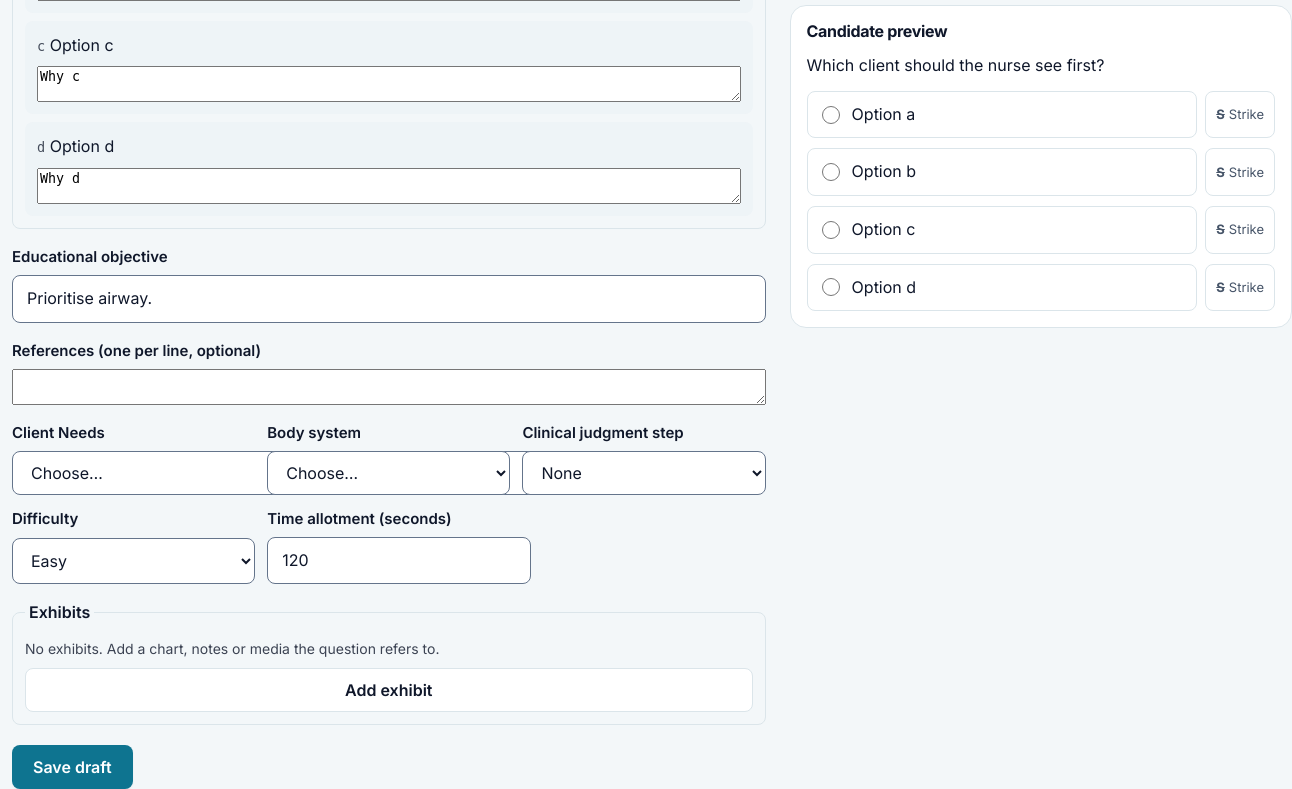
it: DraftForm › puts server problems next to their fields and lists the rest
(page scrolled)
Click the button "Save draft" at (72, 767), box [12, 745, 133, 788]
(page scrolled)
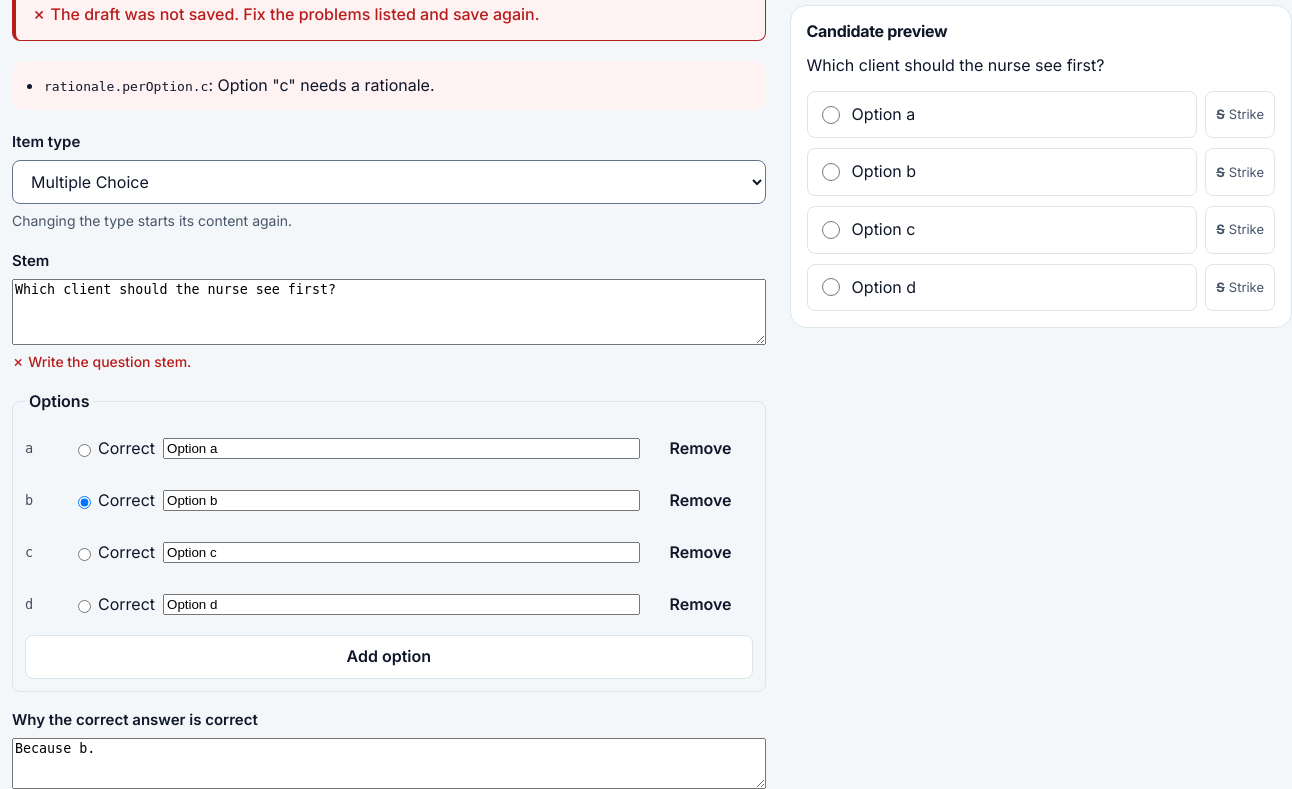
Check: the list named "Problems found by the server" shows "Option \"c\" needs a rationale.", box [218, 75, 435, 95]
Check: the text "Write the question stem." is shown, box [28, 353, 191, 370]
